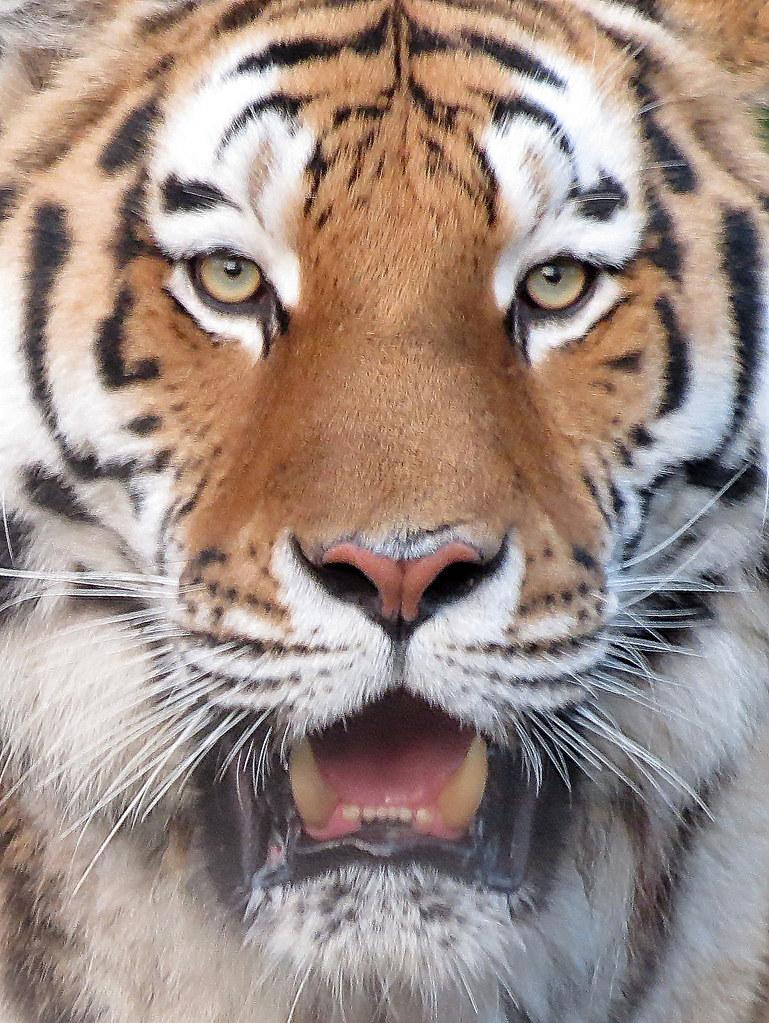tiger: (2, 1, 767, 1022)
